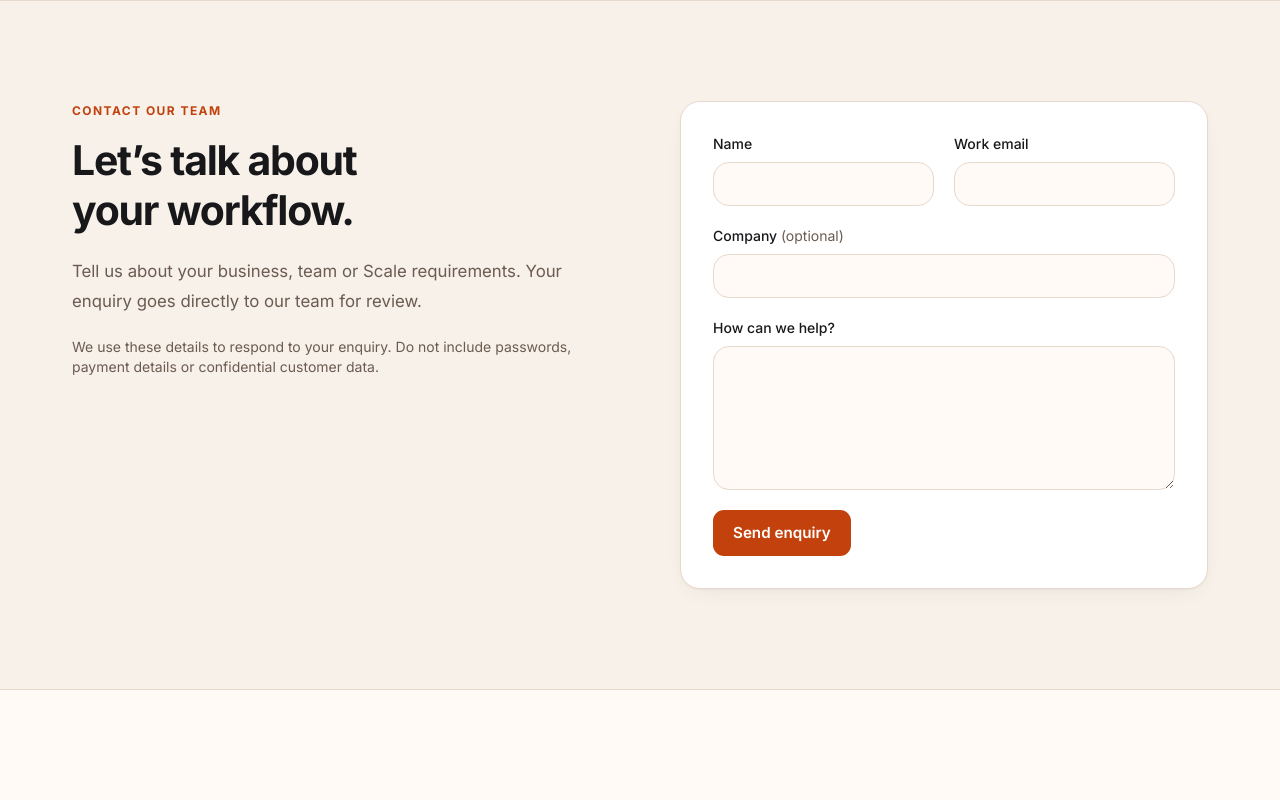
Test: Contact form › retains the enquiry on HTTP 429 and allows a successful retry
In the field labelled "Name": (824, 184) 713,162 -> 934,206, type "Alex Example"
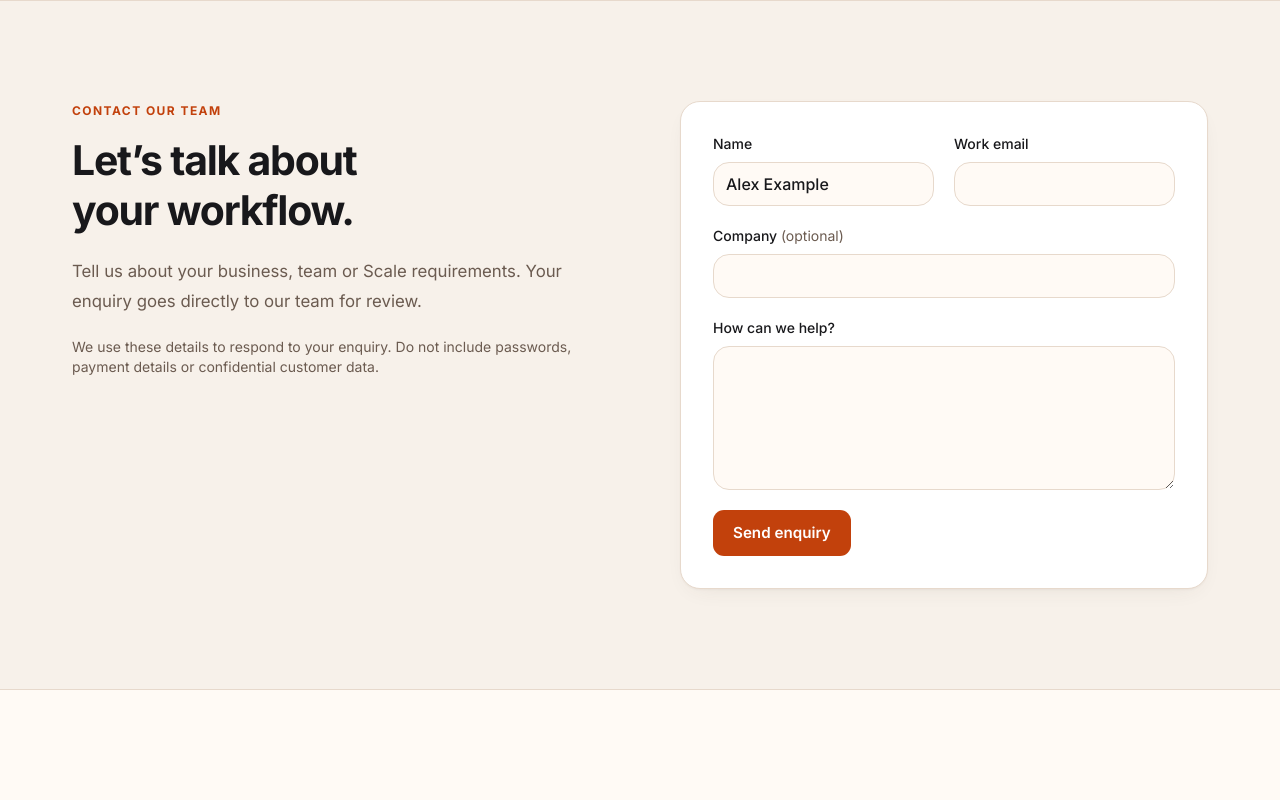
In the field labelled "Work email": (1064, 184) 954,162 -> 1175,206, type "alex@example.com"
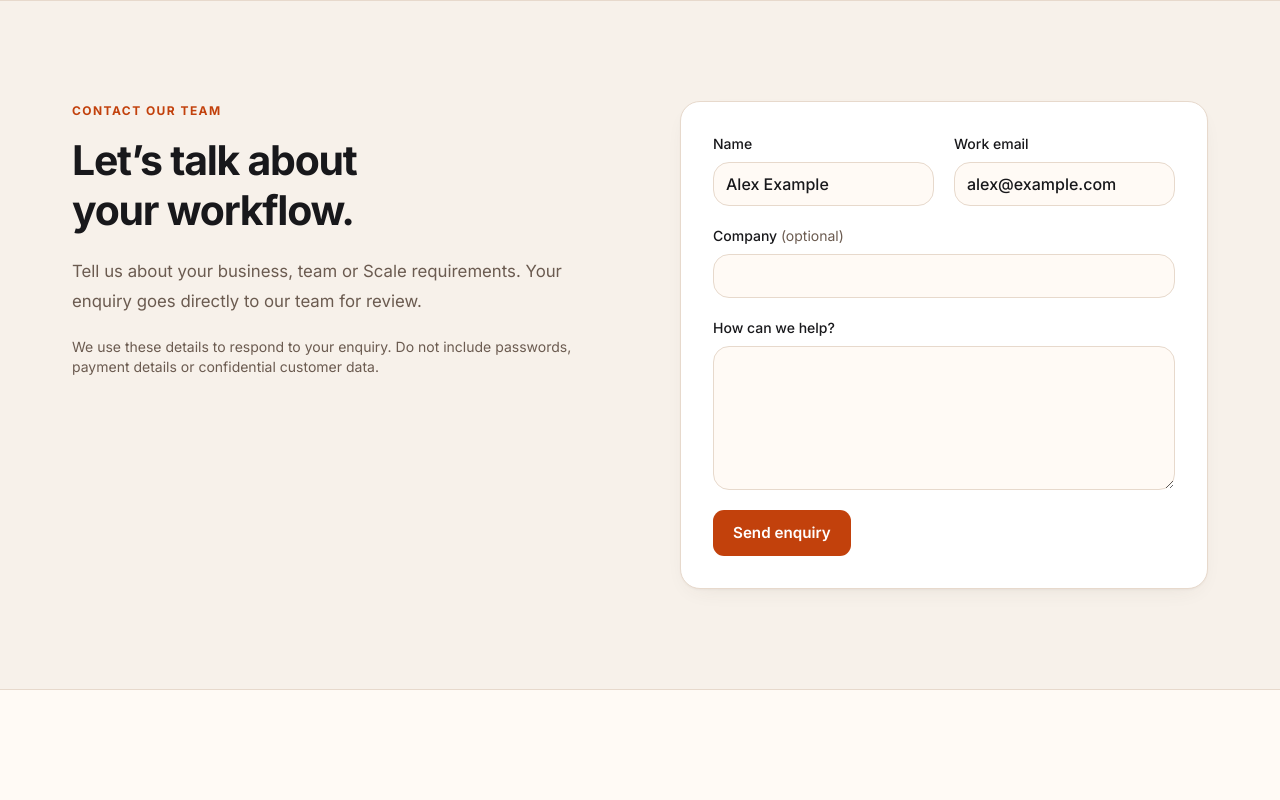
In the field labelled "Company (optional)": (944, 276) 713,254 -> 1175,298, type "Example Team"
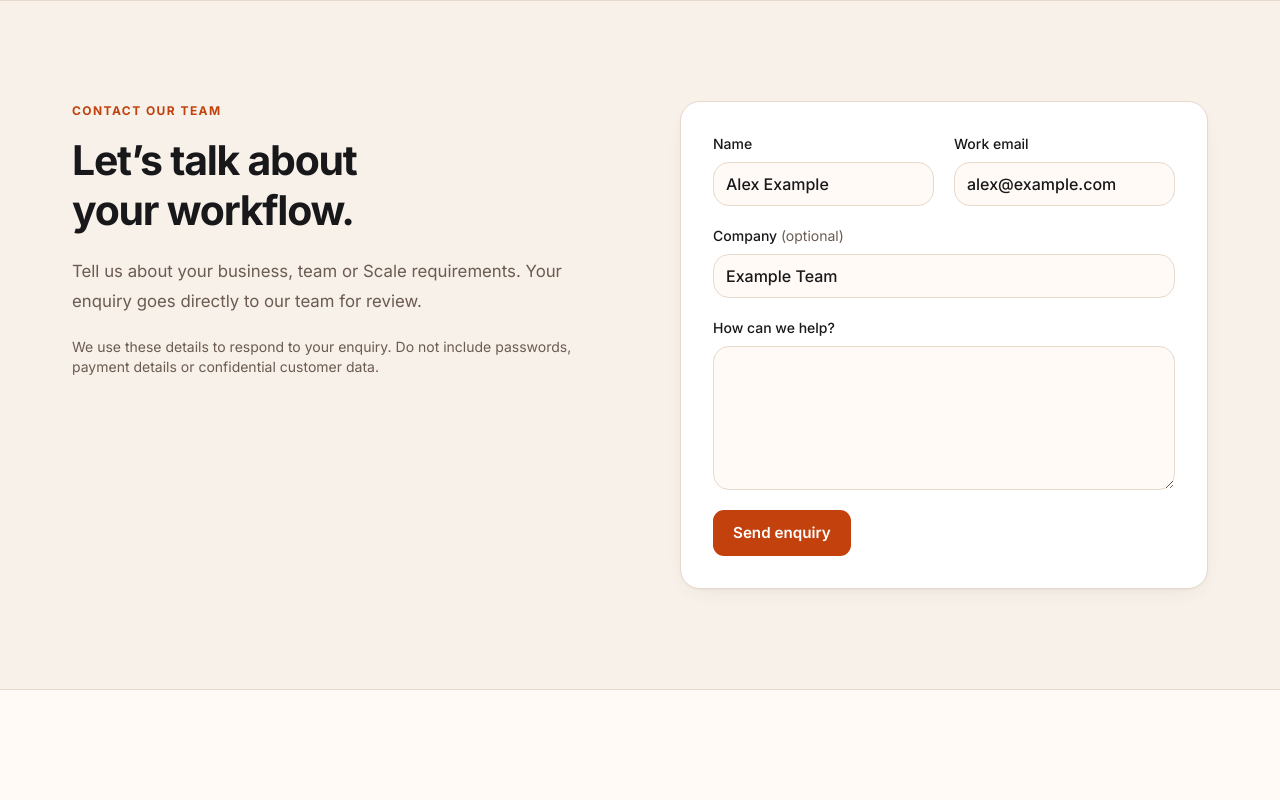
In the text box labelled "How can we help?": (944, 418) 713,346 -> 1175,490, type "We would like to discuss the Scale plan."
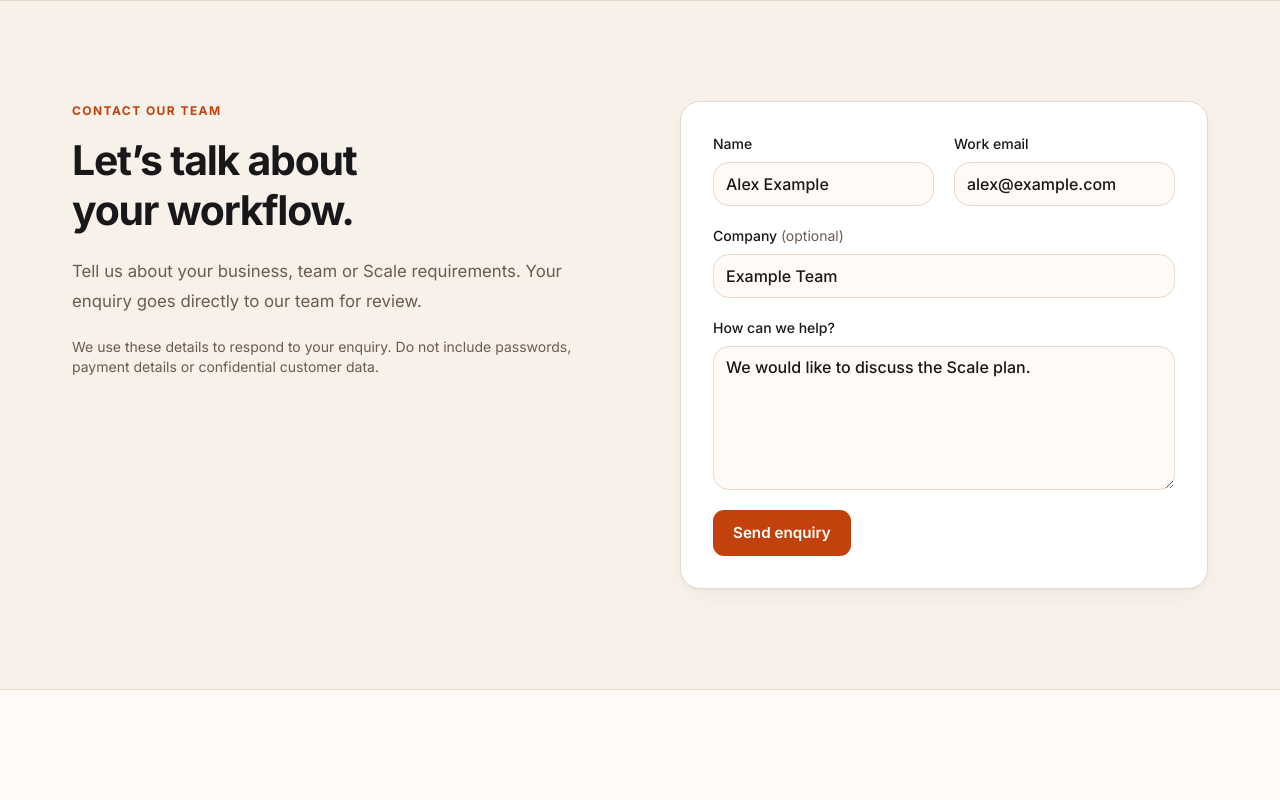
Submit the form "Send enquiry", box 680,101 -> 1208,589
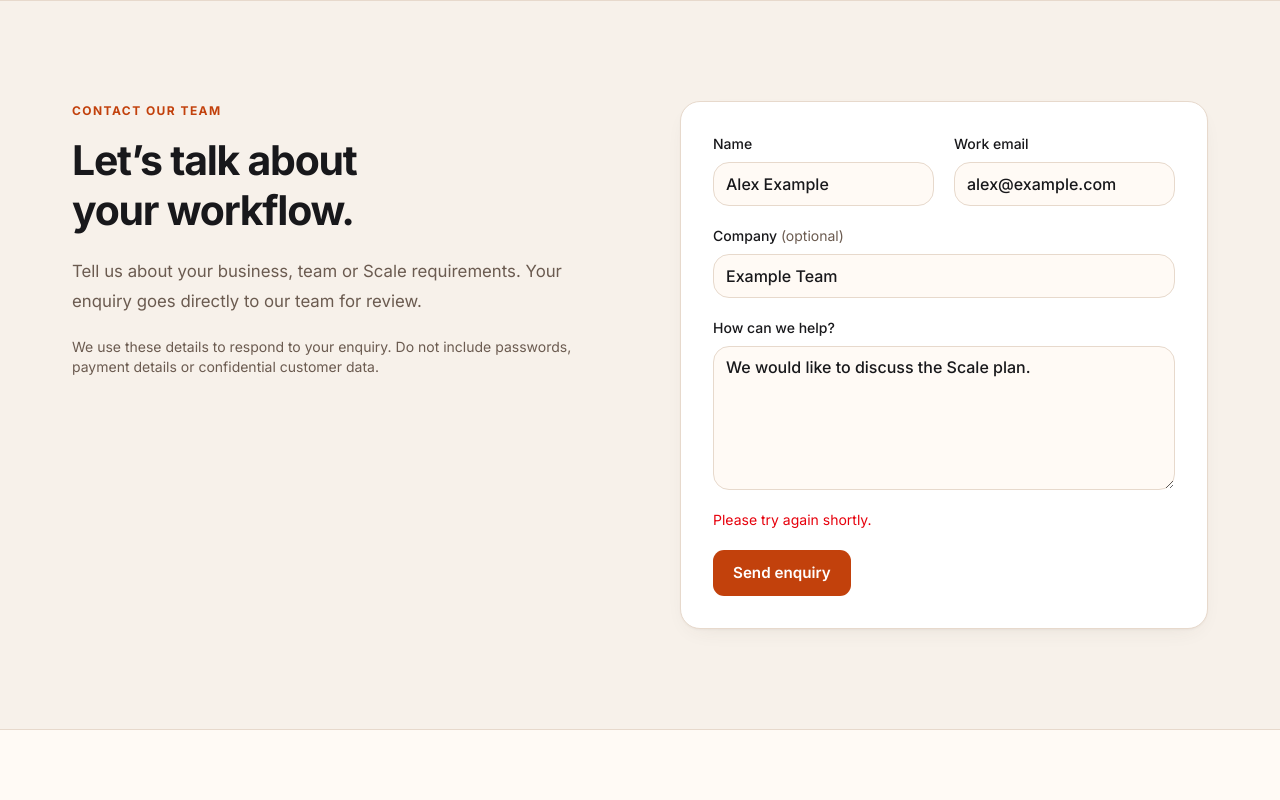
Expected: the button "Send enquiry" is enabled, 713,550 -> 851,596
Now the message reads "Please try again shortly.", box 713,511 -> 872,528
Submit the form named "Send enquiry", box 680,101 -> 1208,629
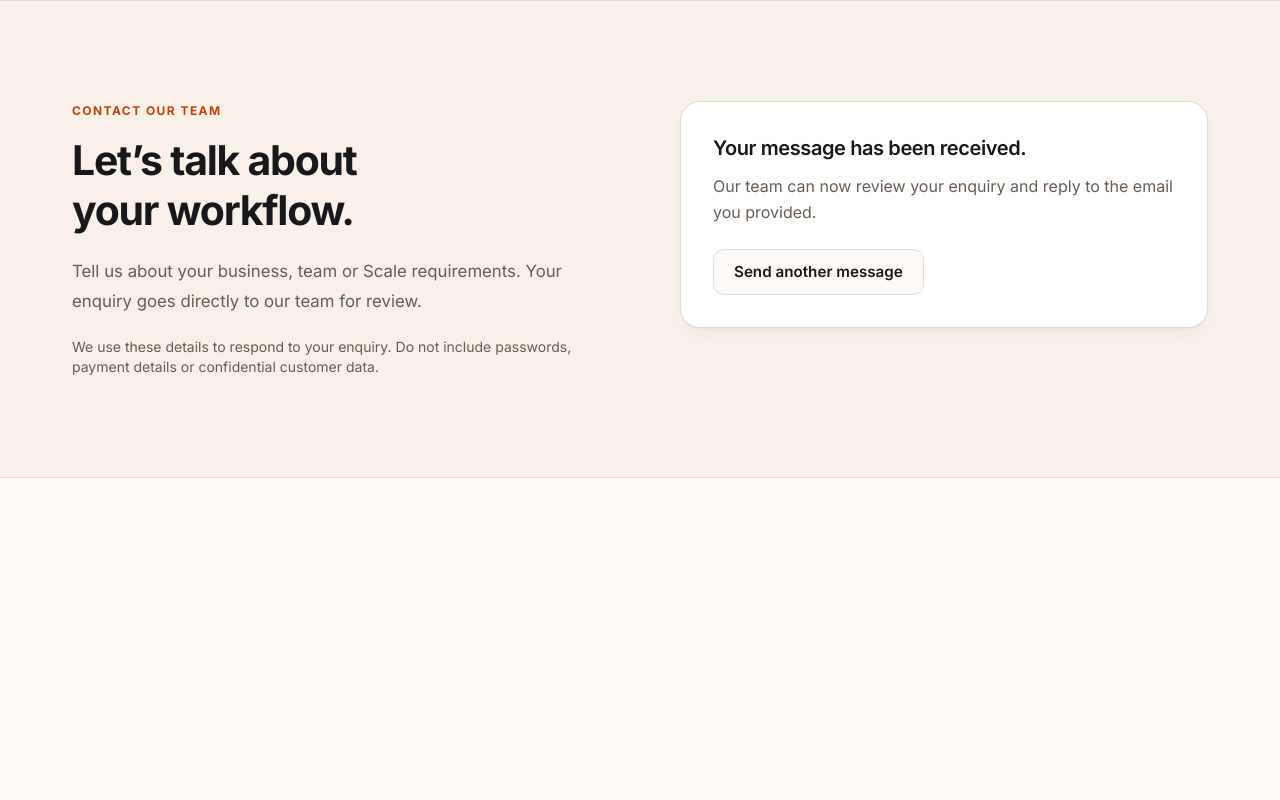
Now the message shows "Your message has been received.", box 713,136 -> 1026,160
